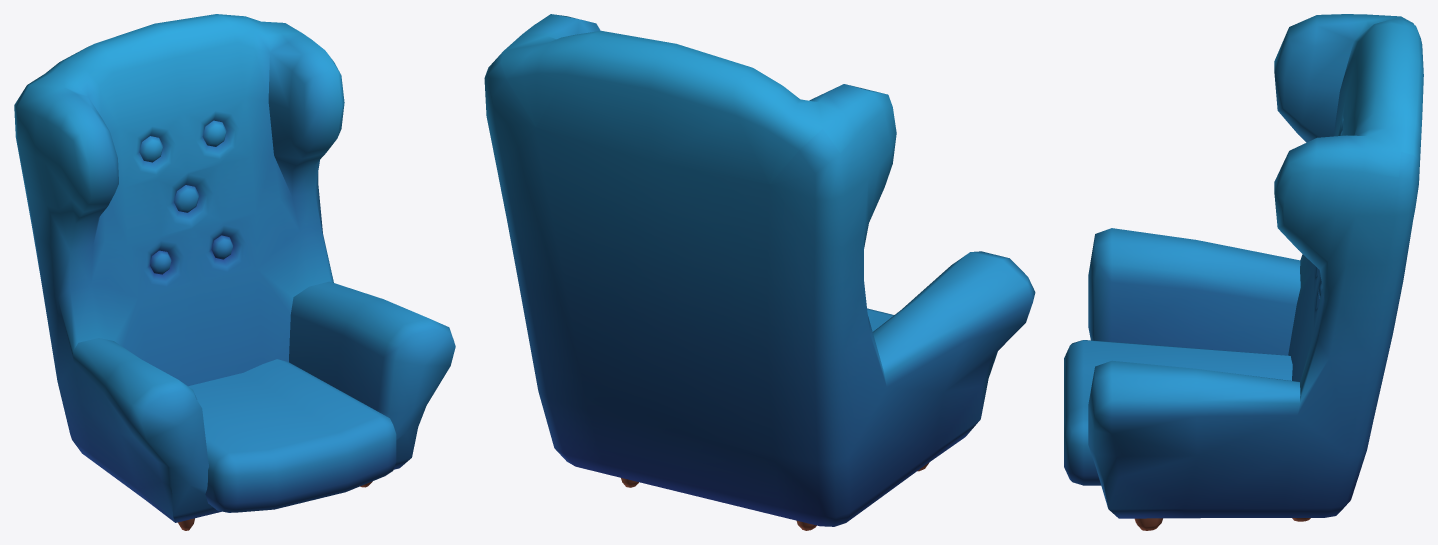
The model's file is chair_large_blue.obj.
3 renders of one model, left to right at view 1: azimuth 30°, elevation 25°; view 2: azimuth 150°, elevation 25°; view 3: azimuth 270°, elevation 25°, orthographic. The views are drawn at different scales.
Visible parts, largest first — view 1: chair_large_blue; view 2: chair_large_blue; view 3: chair_large_blue.
Boxes of the visible parts, left/top/right/bottom form: chair_large_blue: left=14, top=14, right=455, bottom=530; chair_large_blue: left=484, top=14, right=1035, bottom=530; chair_large_blue: left=1064, top=14, right=1423, bottom=530.
Bounding box in the file's own units: 1.83 × 2.14 × 1.61.
1 material, 1 textured.
